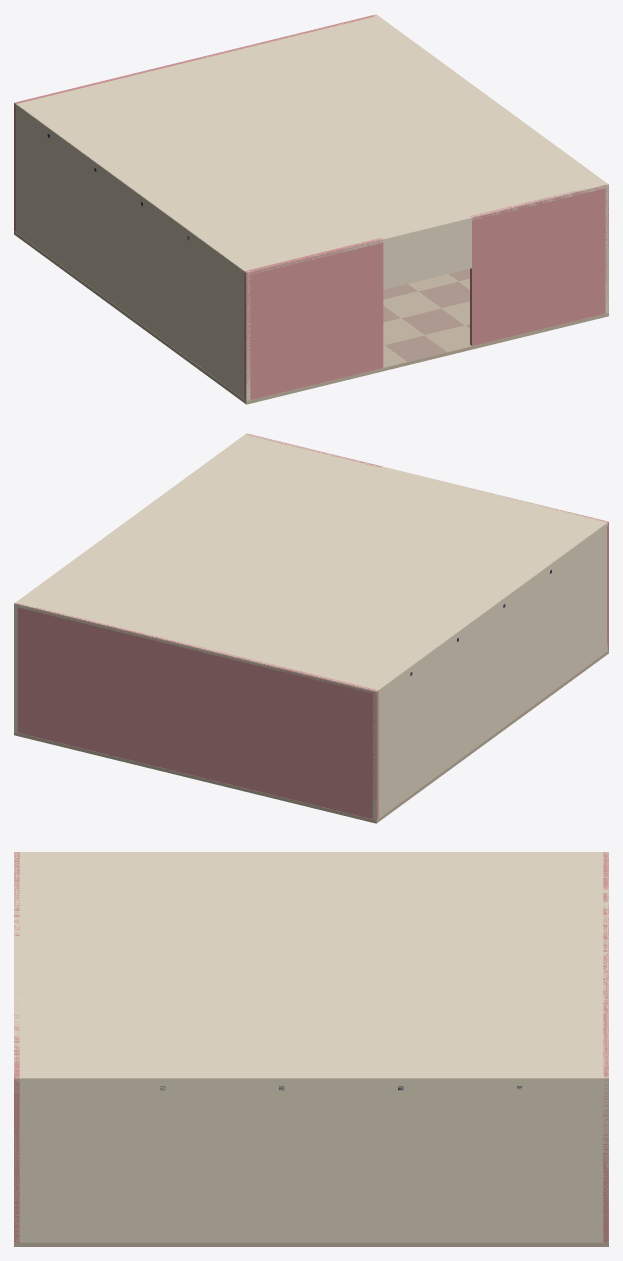
Rendered from jingwai-postal.fbx.
3 renders of one model, top to bottom at view 1: azimuth 30°, elevation 25°; view 2: azimuth 150°, elevation 25°; view 3: azimuth 270°, elevation 25°, orthographic. The views are drawn at different scales.
Visible parts, largest first — view 1: Roof postal ceiling, Right cream wall, Front wall beside entrance.001, Front wall beside entrance, Ground slab, Entry upper lintel, Left cream wall, Rear coral wall, Floor inset tile.024, Floor inset tile.019, Floor inset tile.013; view 2: Roof postal ceiling, Rear coral wall, Right cream wall, Ground slab, Left cream wall; view 3: Roof postal ceiling, Left cream wall, Ground slab, Rear coral wall, Right cream wall, Front wall beside entrance.
Part boxes in pixels (x1,y1,x2,y2): Roof postal ceiling: (14, 16, 607, 275); Right cream wall: (16, 103, 250, 400); Front wall beside entrance.001: (244, 238, 383, 400); Front wall beside entrance: (470, 184, 608, 345); Ground slab: (14, 231, 608, 404); Entry upper lintel: (382, 216, 471, 289); Left cream wall: (373, 14, 608, 313); Rear coral wall: (14, 15, 375, 231); Floor inset tile.024: (385, 335, 446, 361); Floor inset tile.019: (402, 308, 463, 334); Floor inset tile.013: (419, 282, 469, 307); Roof postal ceiling: (14, 433, 608, 693); Rear coral wall: (14, 603, 378, 819); Right cream wall: (372, 521, 607, 819); Ground slab: (14, 650, 608, 823); Left cream wall: (14, 433, 249, 732); Roof postal ceiling: (14, 852, 608, 1082); Left cream wall: (14, 1076, 608, 1242); Ground slab: (14, 1242, 608, 1246); Rear coral wall: (603, 852, 608, 1242); Right cream wall: (17, 852, 608, 854); Front wall beside entrance: (14, 993, 19, 1242).
Size of the model in its own units: 18 by 6.26 by 20.
